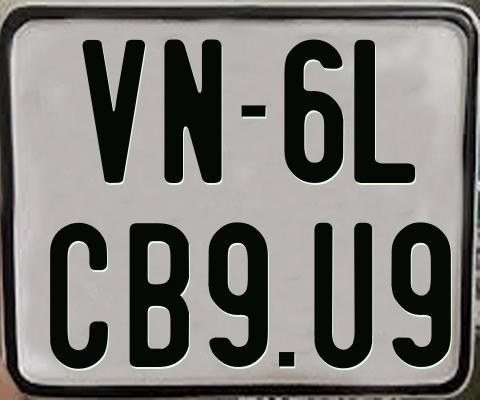6: (282, 38, 344, 187)
9: (208, 220, 272, 371), (388, 219, 452, 364)
B: (129, 223, 195, 370)
C: (49, 221, 111, 370)
L: (352, 40, 413, 187)
N: (164, 39, 224, 186)
U: (314, 223, 376, 370)
V: (81, 39, 144, 188)
